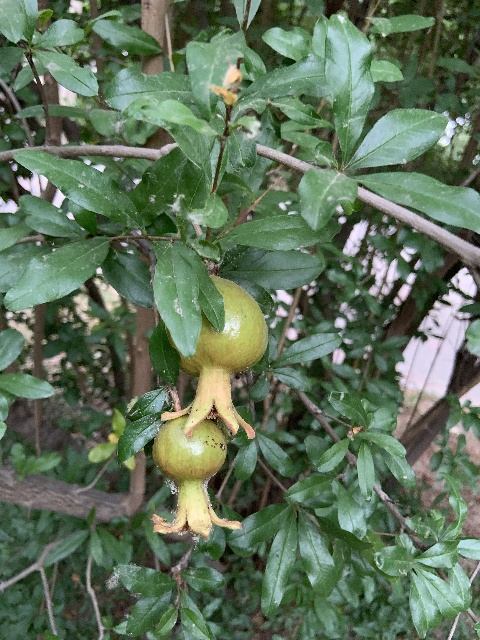mid-growth: (163, 276, 267, 441), (150, 413, 242, 540)
